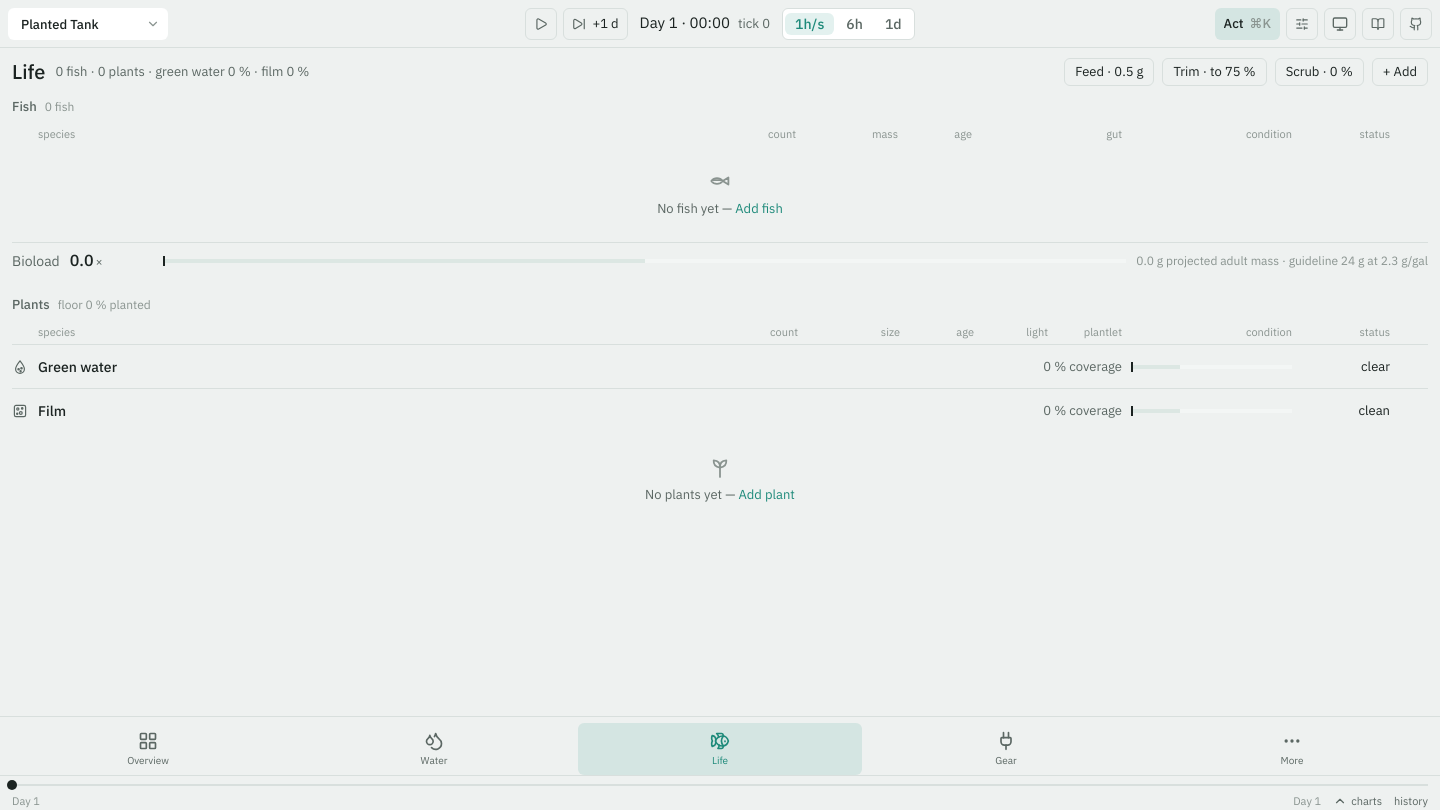
Test: acting on a phone › lays the palette over the whole screen, and opens on its filter
Click the button "Act ⌘K" at (1247, 24), box x1=1215 y1=8 x2=1280 y2=40
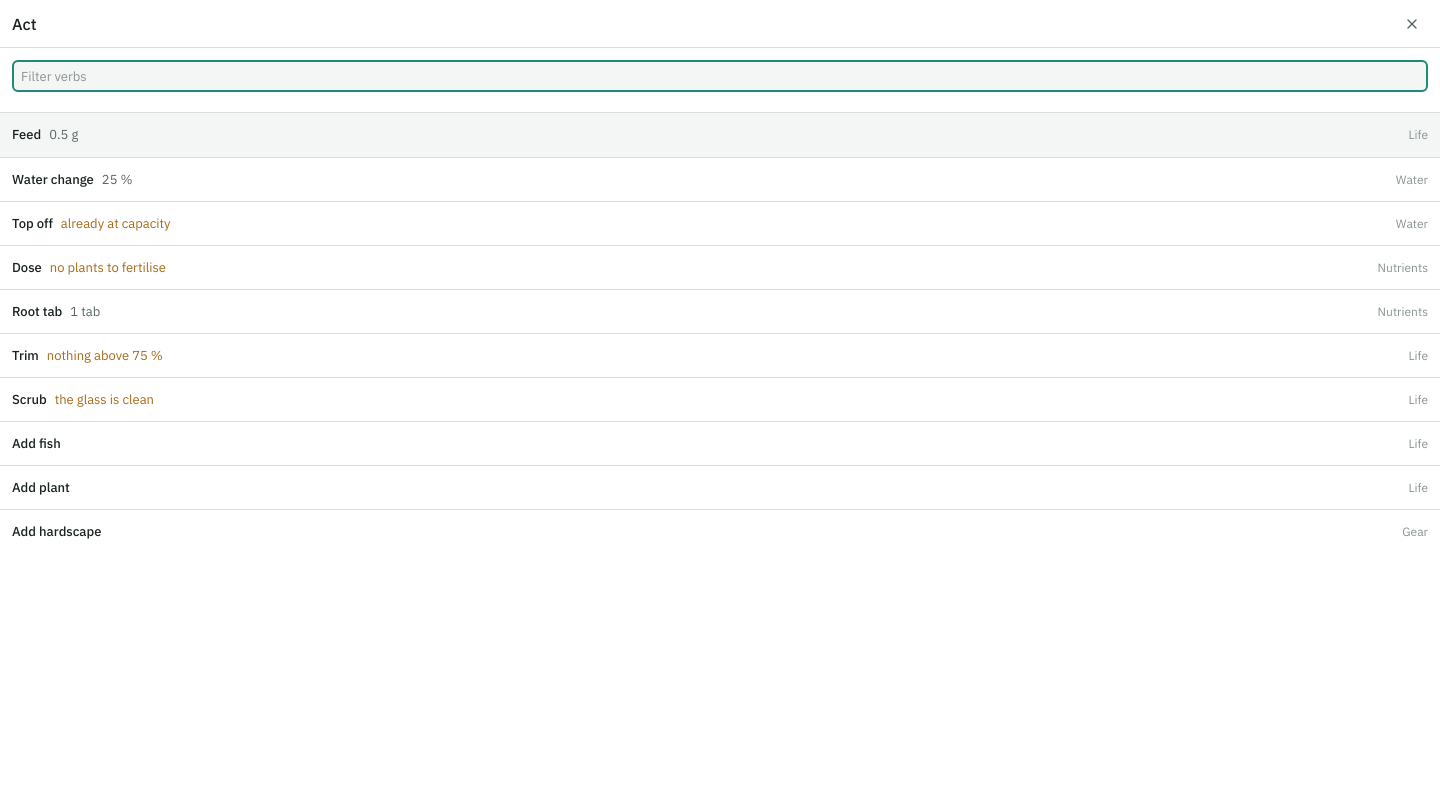
Result: the number of options is 10
